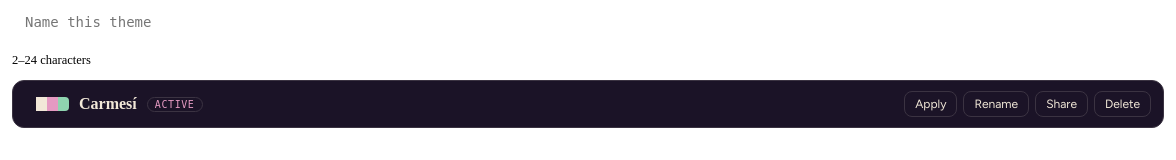
Test: PresetLibrary › Share WITH a handle (even on a private profile) PATCHes {isShared:true}
Click the button "Share" at (1062, 104), box left=1035, top=91, right=1088, bottom=117
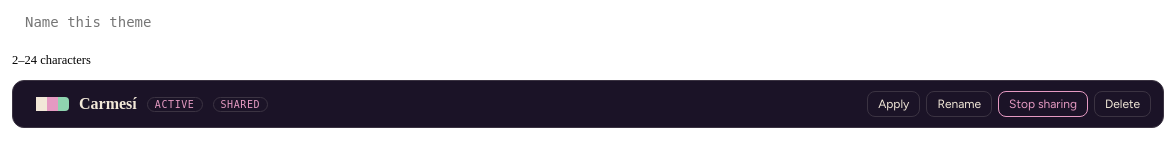
Expected: the list item with class "tm-preset-row" shows "Shared", left=220, top=98, right=260, bottom=110
